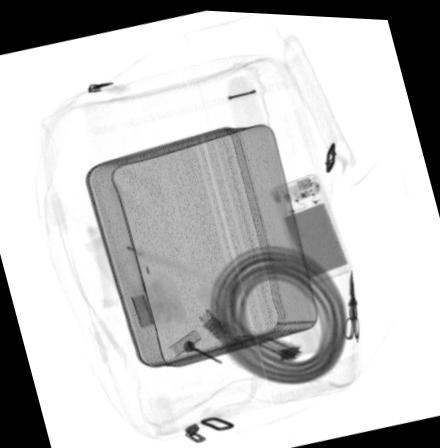Powerbank: (269, 170, 352, 284)
Scissors: (339, 266, 363, 340)
